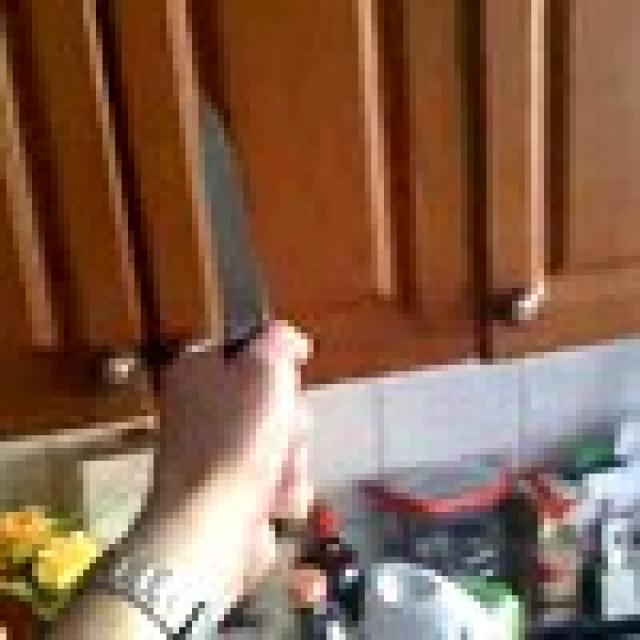Knife: (198, 83, 276, 365)
